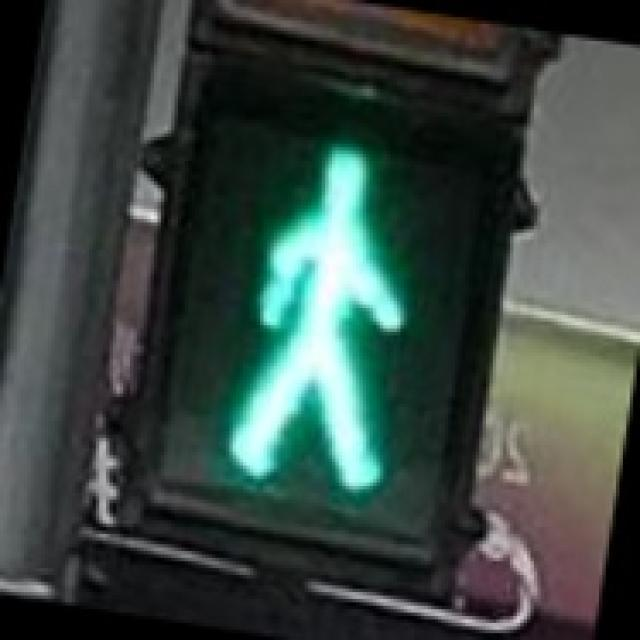green_light: (133, 82, 493, 548)
